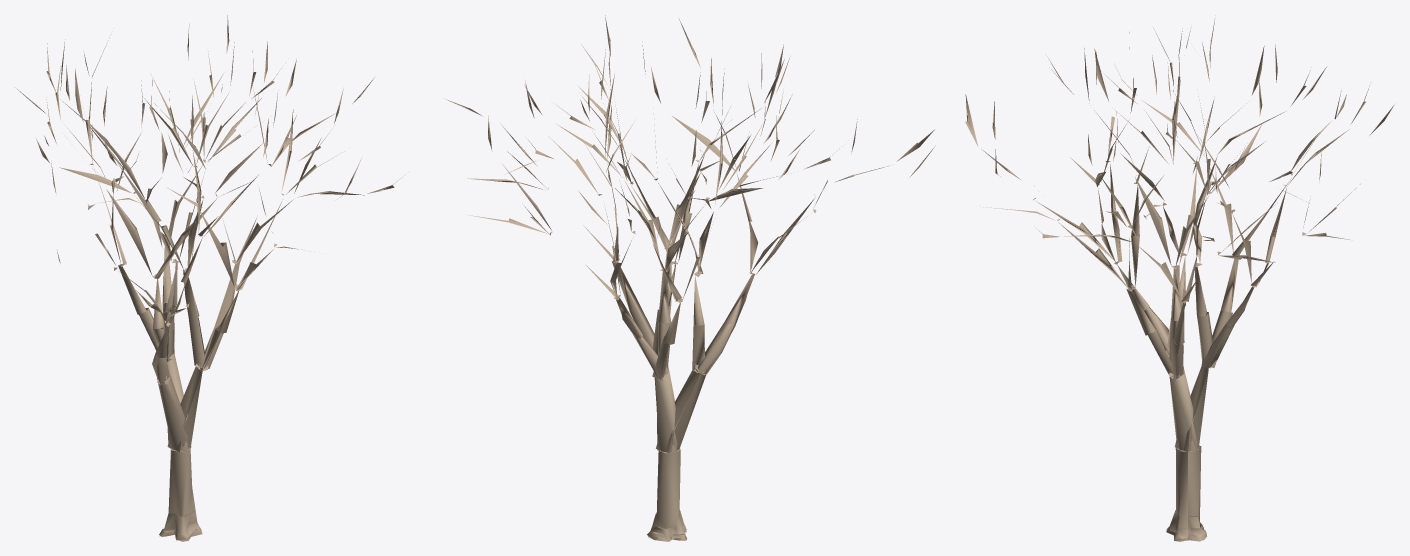
Rendered from accacia_mort1_l1.glb.
3 views of the same model, side by side, from view 1: azimuth 30°, elevation 25°; view 2: azimuth 150°, elevation 25°; view 3: azimuth 270°, elevation 25° (orthographic).
Parts seen in each view (by area): view 1: Acacia_Dry_Green__Mature_; view 2: Acacia_Dry_Green__Mature_; view 3: Acacia_Dry_Green__Mature_.
Boxes of the visible parts, left/top/right/bottom form: Acacia_Dry_Green__Mature_: left=17, top=15, right=402, bottom=541; Acacia_Dry_Green__Mature_: left=446, top=15, right=935, bottom=541; Acacia_Dry_Green__Mature_: left=965, top=19, right=1394, bottom=541.
Size of the model in its own units: 3.77 by 4.23 by 3.44.
